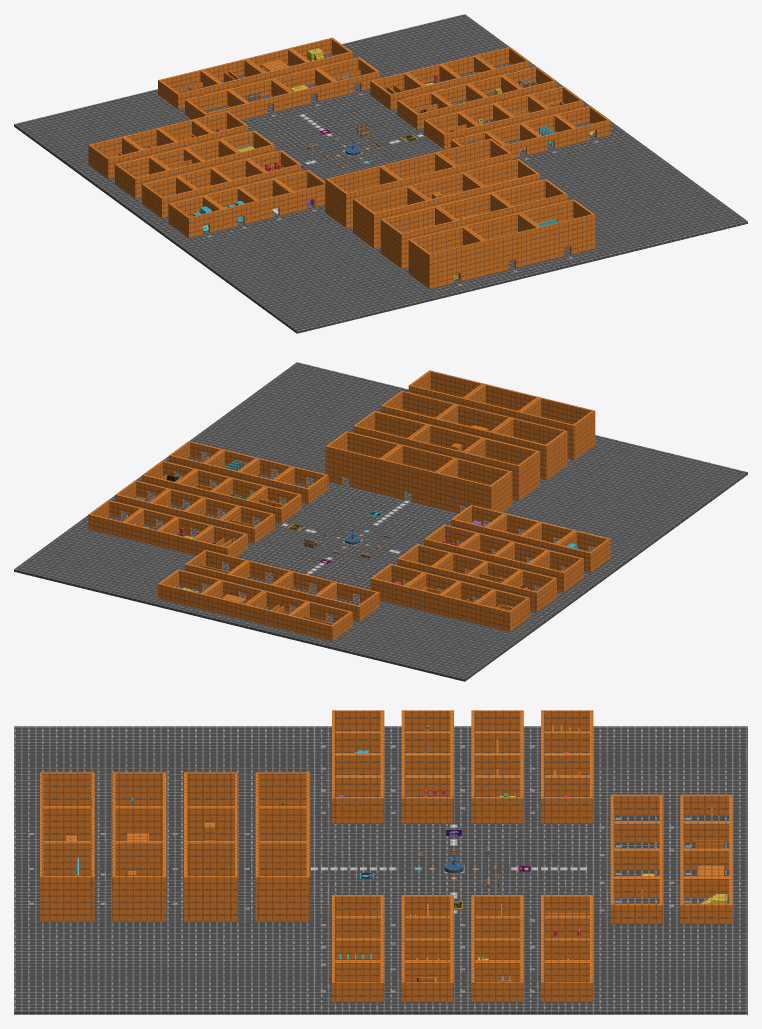
File: DevTown1.glb
3 renders of one model, top to bottom at view 1: azimuth 30°, elevation 25°; view 2: azimuth 150°, elevation 25°; view 3: azimuth 270°, elevation 25°, orthographic. The views are drawn at different scales.
Parts seen in each view (by area): view 1: 00_Ground, Room_01_walls.003, Room_03_walls.003, Room_04_walls.003, Room_05_walls.003, Room_08_walls.003, Room_10_walls.002, Room_01_walls, Room_07_walls.003, Room_12_walls.002, Room_02_walls.003, Room_11_walls.002 (+40 smaller); view 2: 00_Ground, Room_10_walls.002, Room_11_walls.002, Room_12_walls.002, Room_01_walls.003, Room_05_walls.003, Room_08_walls.003, Room_13_walls, Room_05_walls.001, Room_03_walls.003, Room_04_walls.003, Room_07_walls.003 (+41 smaller); view 3: 00_Ground, Room_12_walls.002, Room_02_walls.003, Room_07_walls.003, Room_04_walls.003, Room_04_walls, Room_16_walls, Room_12_walls, Room_08_walls, Room_04_walls.001, Room_08_walls.001, Room_04_walls.002 (+41 smaller).
Boxes of the visible parts, <box> form: 00_Ground: <box>14,14,747,333</box>; Room_01_walls.003: <box>408,226,484,288</box>; Room_03_walls.003: <box>464,213,539,275</box>; Room_04_walls.003: <box>519,199,595,261</box>; Room_05_walls.003: <box>380,206,456,268</box>; Room_08_walls.003: <box>353,185,429,248</box>; Room_10_walls.002: <box>325,165,401,228</box>; Room_01_walls: <box>168,195,223,237</box>; Room_07_walls.003: <box>491,179,567,214</box>; Room_12_walls.002: <box>436,138,512,173</box>; Room_02_walls.003: <box>464,158,539,193</box>; Room_11_walls.002: <box>381,152,456,186</box>; 00_Ground: <box>14,362,747,681</box>; Room_10_walls.002: <box>436,458,512,513</box>; Room_11_walls.002: <box>380,444,456,507</box>; Room_12_walls.002: <box>325,431,401,493</box>; Room_01_walls.003: <box>519,397,595,459</box>; Room_05_walls.003: <box>491,417,567,480</box>; Room_08_walls.003: <box>463,438,539,500</box>; Room_13_walls: <box>475,589,530,631</box>; Room_05_walls.001: <box>289,601,352,641</box>; Room_03_walls.003: <box>463,384,539,418</box>; Room_04_walls.003: <box>408,370,484,405</box>; Room_07_walls.003: <box>380,390,456,425</box>; 00_Ground: <box>14,726,747,1014</box>; Room_12_walls.002: <box>255,842,310,921</box>; Room_02_walls.003: <box>184,842,238,921</box>; Room_07_walls.003: <box>112,842,166,921</box>; Room_04_walls.003: <box>40,842,94,921</box>; Room_04_walls: <box>332,776,384,823</box>; Room_16_walls: <box>541,776,593,823</box>; Room_12_walls: <box>471,776,523,823</box>; Room_08_walls: <box>401,776,453,823</box>; Room_04_walls.001: <box>610,877,662,924</box>; Room_08_walls.001: <box>680,877,732,924</box>; Room_04_walls.002: <box>332,961,384,1002</box>.
Bounding box in the file's own units: 157 × 12.19 × 171.
Materials: 108 (108 with a texture image).
